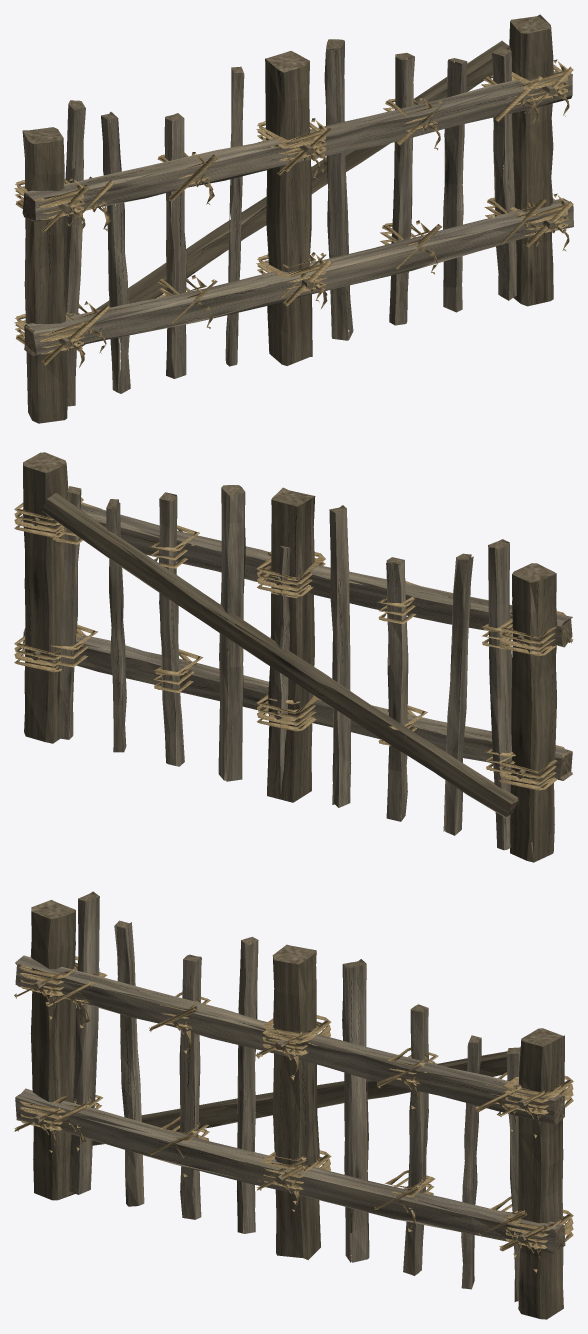
The model's file is fence.glb.
3 views of the same model, one above another, from view 1: azimuth 30°, elevation 25°; view 2: azimuth 150°, elevation 25°; view 3: azimuth 330°, elevation 25° (orthographic).
Visible parts, largest first — view 1: rustic_fence_section_LOD1; view 2: rustic_fence_section_LOD1; view 3: rustic_fence_section_LOD1.
Boxes of the visible parts, bbox=[...] form: rustic_fence_section_LOD1: bbox=[14, 14, 573, 423]; rustic_fence_section_LOD1: bbox=[14, 452, 573, 862]; rustic_fence_section_LOD1: bbox=[14, 891, 573, 1319].
Size of the model in its own units: 2.63 by 1.41 by 0.3115.
4 materials, 4 textured.
